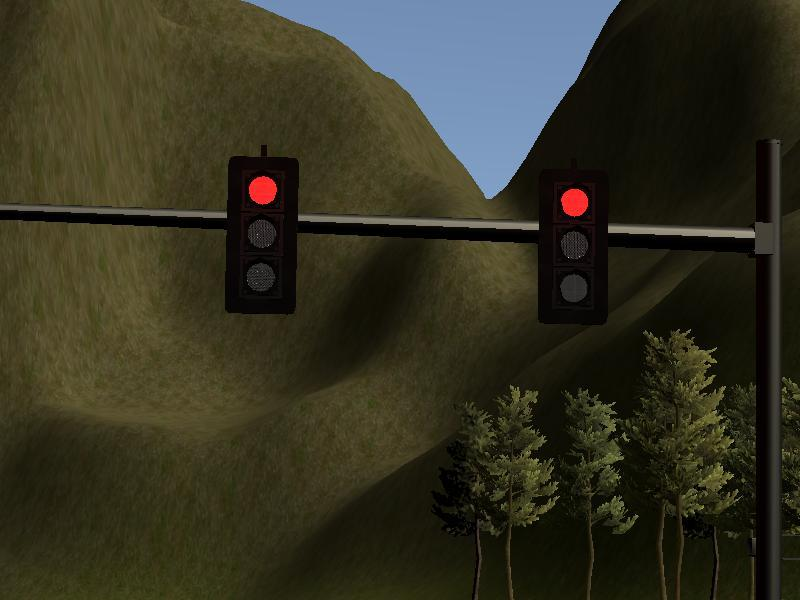Red: (230, 156, 296, 312), (544, 174, 605, 322)
